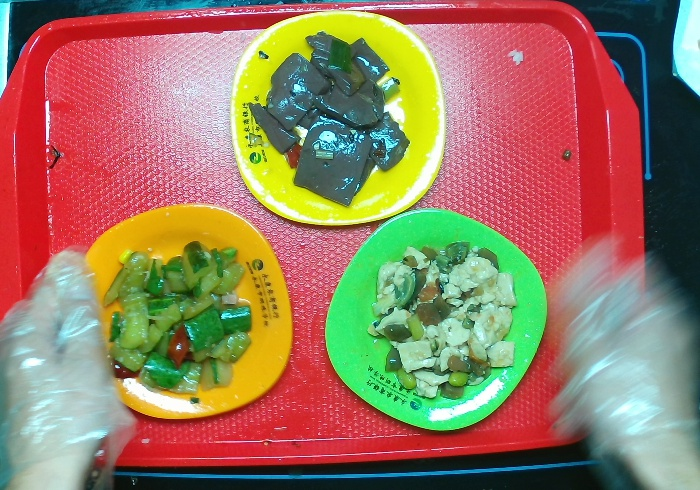YKMZ-Huang_Se_Fang_Die: (228, 8, 448, 227)
YKMZ-Ju_Se_Fang_Die: (82, 202, 295, 420)
YKMZ-Lv_Se_Fang_Die: (323, 207, 549, 432)
